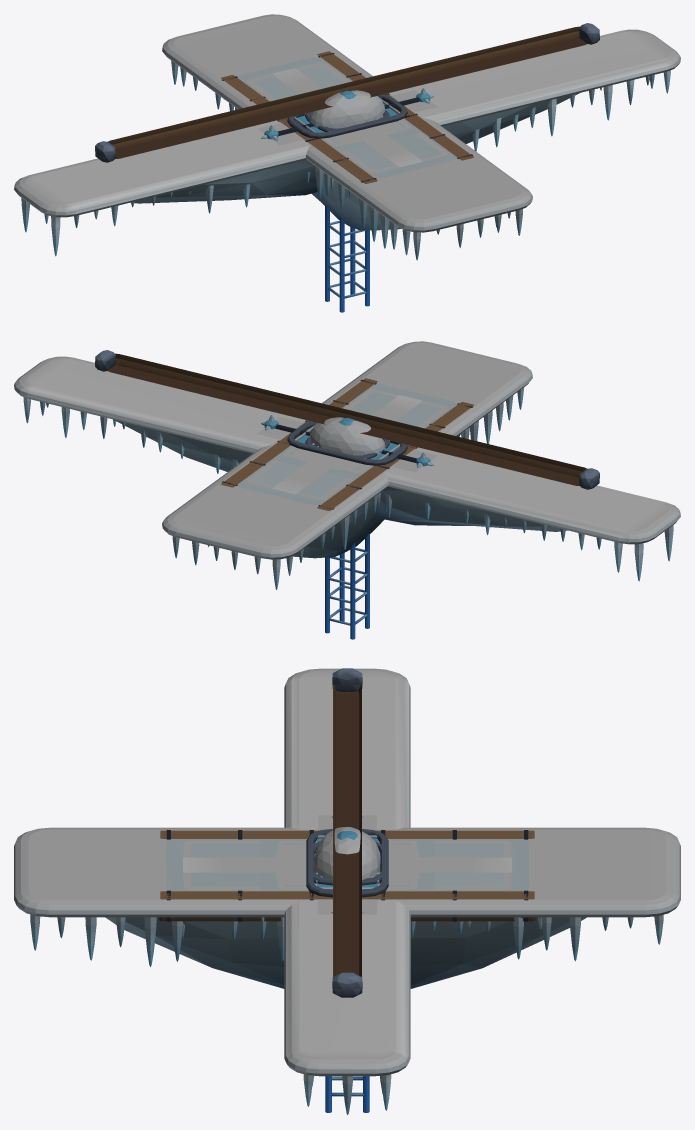
File: glacier-3-DG_wIIHB.glb
The picture shows the model from 3 angles, top to bottom: view 1: azimuth 30°, elevation 25°; view 2: azimuth 150°, elevation 25°; view 3: azimuth 270°, elevation 25°; orthographic projection. The views are drawn at different scales.
Visible parts, largest first — view 1: block_40x2x5#0, block_8x2x28#0, mount_15.3#0, block_7x2x16_ice#0, belt_7x1.5x16x0#0, truss_11#0, boulder_4.7x3#0, beam_1.5x1.5x14#0, jetVent_6x3#0, beam_10x2x2.5#0, block_5x2x7#0, block_7x2x8_ice#0; view 2: block_40x2x5#0, block_8x2x28#0, mount_15.3#0, block_7x2x16_ice#0, belt_7x1.5x16x0#0, truss_11#0, boulder_4.7x3#0, beam_1.5x1.5x14#0, jetVent_6x3#0, beam_10x2x2.5#0, block_5x2x7#0, block_7x2x8_ice#0; view 3: block_8x2x28#0, block_40x2x5#0, mount_15.3#0, belt_7x1.5x16x0#0, block_7x2x16_ice#0, beam_1.5x1.5x14#0, boulder_4.7x3#0, block_7x2x8_ice#0, jetVent_6x3#0, block_5x2x7#0, beam_10x2x2.5#0, truss_11#0.
Part boxes in pixels (<box>): block_40x2x5#0: <box>14,29,680,256</box>; block_8x2x28#0: <box>162,14,532,260</box>; mount_15.3#0: <box>95,23,599,162</box>; block_7x2x16_ice#0: <box>237,56,457,178</box>; belt_7x1.5x16x0#0: <box>221,51,474,200</box>; truss_11#0: <box>325,205,369,312</box>; boulder_4.7x3#0: <box>309,90,385,128</box>; beam_1.5x1.5x14#0: <box>272,68,422,167</box>; jetVent_6x3#0: <box>287,94,407,138</box>; beam_10x2x2.5#0: <box>257,90,437,145</box>; block_5x2x7#0: <box>304,115,401,143</box>; block_7x2x8_ice#0: <box>301,116,421,151</box>; block_40x2x5#0: <box>14,356,680,581</box>; block_8x2x28#0: <box>162,341,532,589</box>; mount_15.3#0: <box>95,350,599,489</box>; block_7x2x16_ice#0: <box>237,383,457,505</box>; belt_7x1.5x16x0#0: <box>220,378,473,517</box>; truss_11#0: <box>325,533,369,639</box>; boulder_4.7x3#0: <box>309,417,385,455</box>; beam_1.5x1.5x14#0: <box>272,395,422,494</box>; jetVent_6x3#0: <box>287,421,407,465</box>; beam_10x2x2.5#0: <box>257,417,437,472</box>; block_5x2x7#0: <box>293,442,390,470</box>; block_7x2x8_ice#0: <box>273,443,393,478</box>; block_8x2x28#0: <box>14,827,680,988</box>; block_40x2x5#0: <box>284,668,410,1114</box>; mount_15.3#0: <box>332,668,362,997</box>; belt_7x1.5x16x0#0: <box>159,830,542,939</box>; block_7x2x16_ice#0: <box>166,839,528,891</box>; beam_1.5x1.5x14#0: <box>183,857,511,872</box>; boulder_4.7x3#0: <box>313,827,380,880</box>; block_7x2x8_ice#0: <box>260,839,434,891</box>; jetVent_6x3#0: <box>306,829,388,897</box>; block_5x2x7#0: <box>275,844,419,885</box>; beam_10x2x2.5#0: <box>317,815,377,914</box>; truss_11#0: <box>325,1076,369,1112</box>.
Size of the model in its own units: 40.36 by 13.2 by 28.36.
